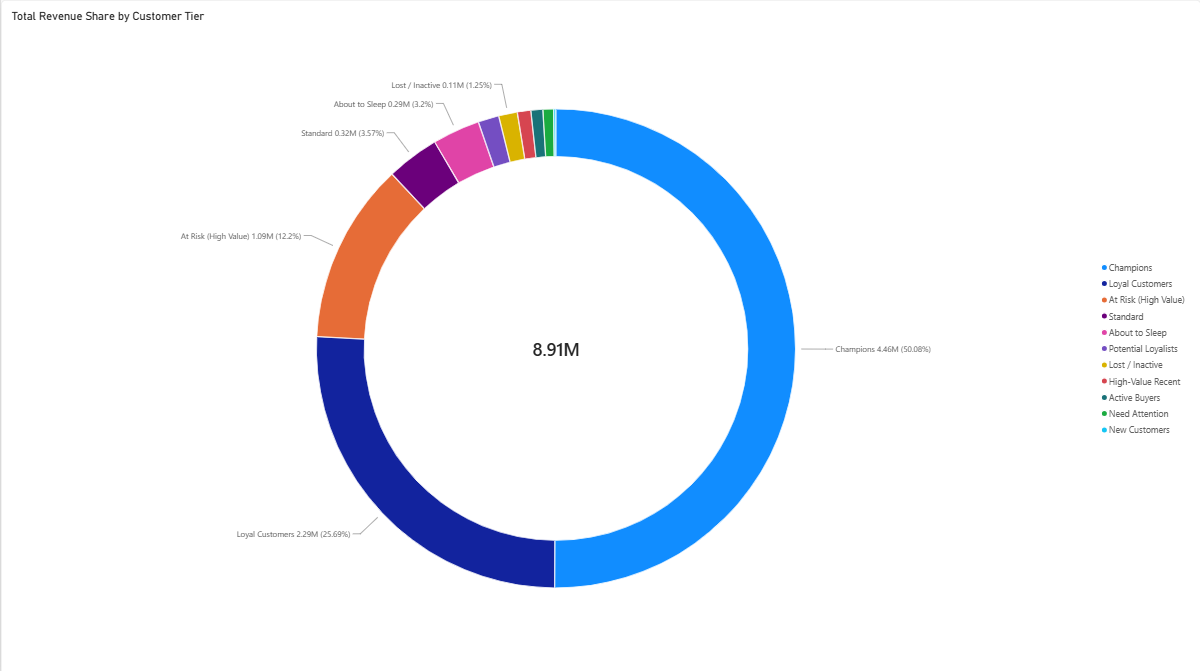

This screenshot's page, from the dashboard's own definition file:
{"tool":"powerbi","page":{"name":"Page 2","canvas":[1920,1080],"ordinal":1},"visuals":[{"type":"donutChart","title":"Total Revenue Share by Customer Tier","fields":{"Category":["rfm_customer_segments.segment_label"],"Y":["Sum(rfm_customer_segments.monetary)"]},"box":[0,0,1920.4,1079.7],"z":0}]}

Visuals, with their boxes in screenshot pixels (x1, y1, x2, y2), scaled from the page's 1920x1080 canvas onto the 1200x671 screenshot:
"Total Revenue Share by Customer Tier" donutChart: select_region(0, 0, 1199, 670)
